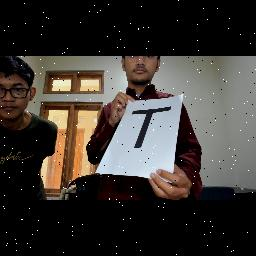t: (130, 106, 172, 150)
